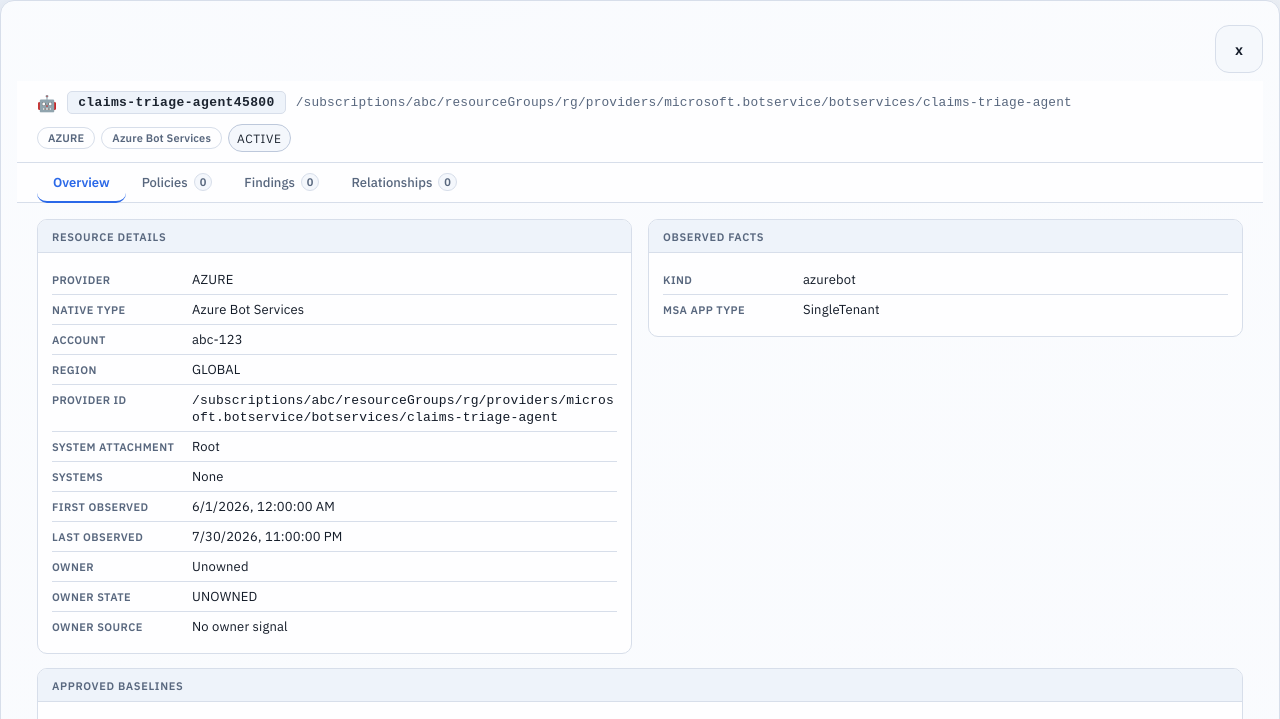
Test: AiAssetDetailPage › requests only the definition graph and offers no runtime controls
Expected: the text "claims-triage-agent45800" is shown, [67, 91, 286, 114]
Click the button "Relationships 0" at {"x": 404, "y": 183}, box [335, 163, 473, 203]
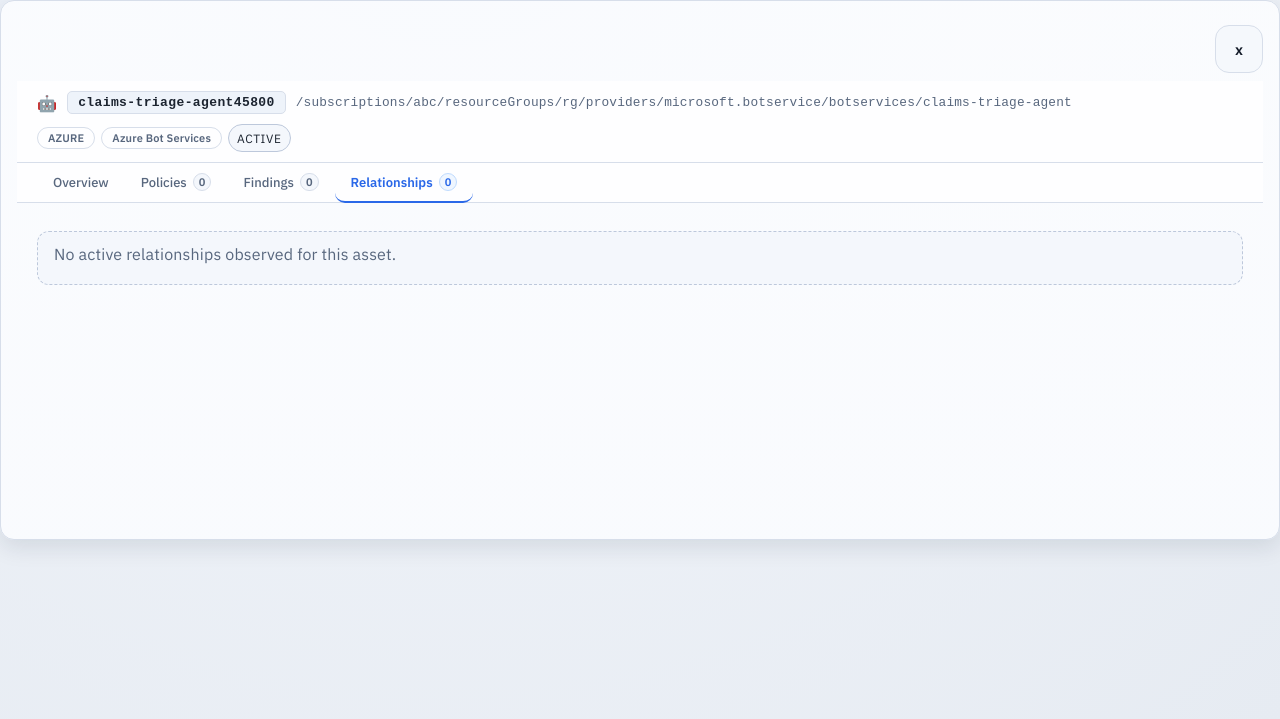
Now the text "No active relationships observed for this asset." is shown, box [54, 244, 396, 264]
